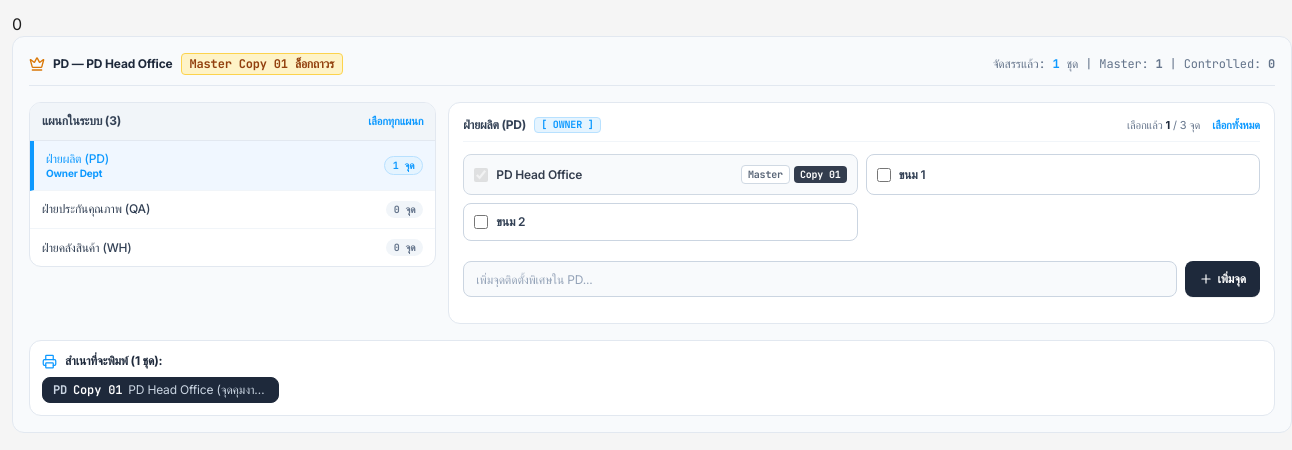
Test case: Distribution Station Checkbox Click, ID Normalization & Real-time Allocation Sync Tests › Test Case 3: Clicking station "ขนม 1" again unselects it and re-indexes counters cleanly
Click the button "ขนม 1": x=884, y=175 [866,154,1260,195]
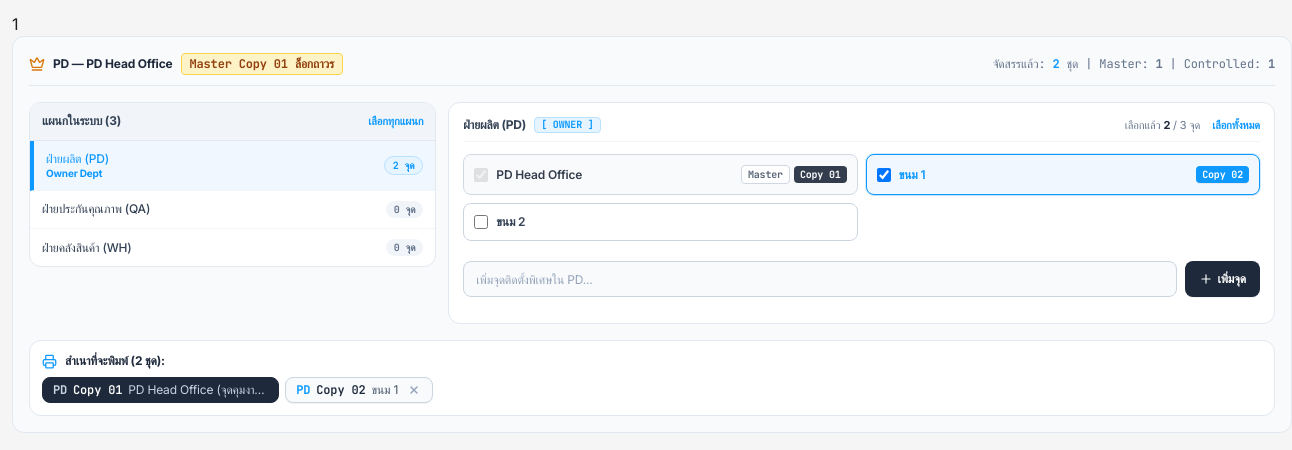
Expected: the button "ฝ่ายผลิต (PD) Owner Dept 2 จุด" is shown, [30,140,435,191]
Note: Unselect by clicking again
Click the button "ขนม 1 Copy 02": x=1223, y=175 [866,154,1260,195]
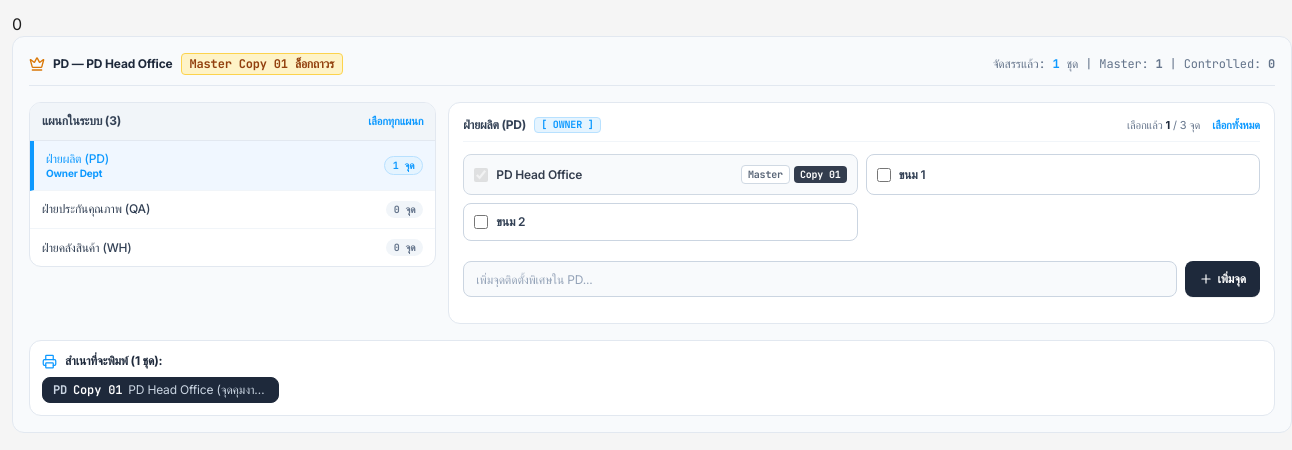
Expected: the button "Copy 02" is gone
Expected: the button "ฝ่ายผลิต (PD) Owner Dept 1 จุด" is shown, [30,140,435,191]
Expected: the text with test id "distributions-count" reads "0", [12,14,22,34]
